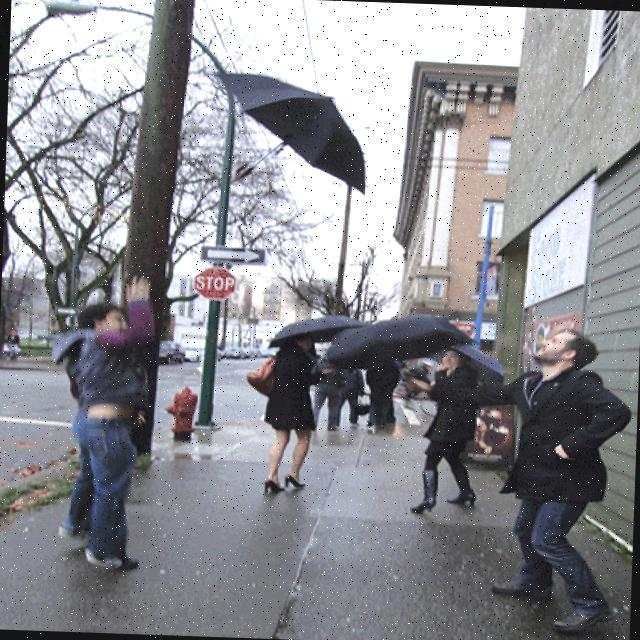fire_hydrant: (165, 386, 198, 441)
